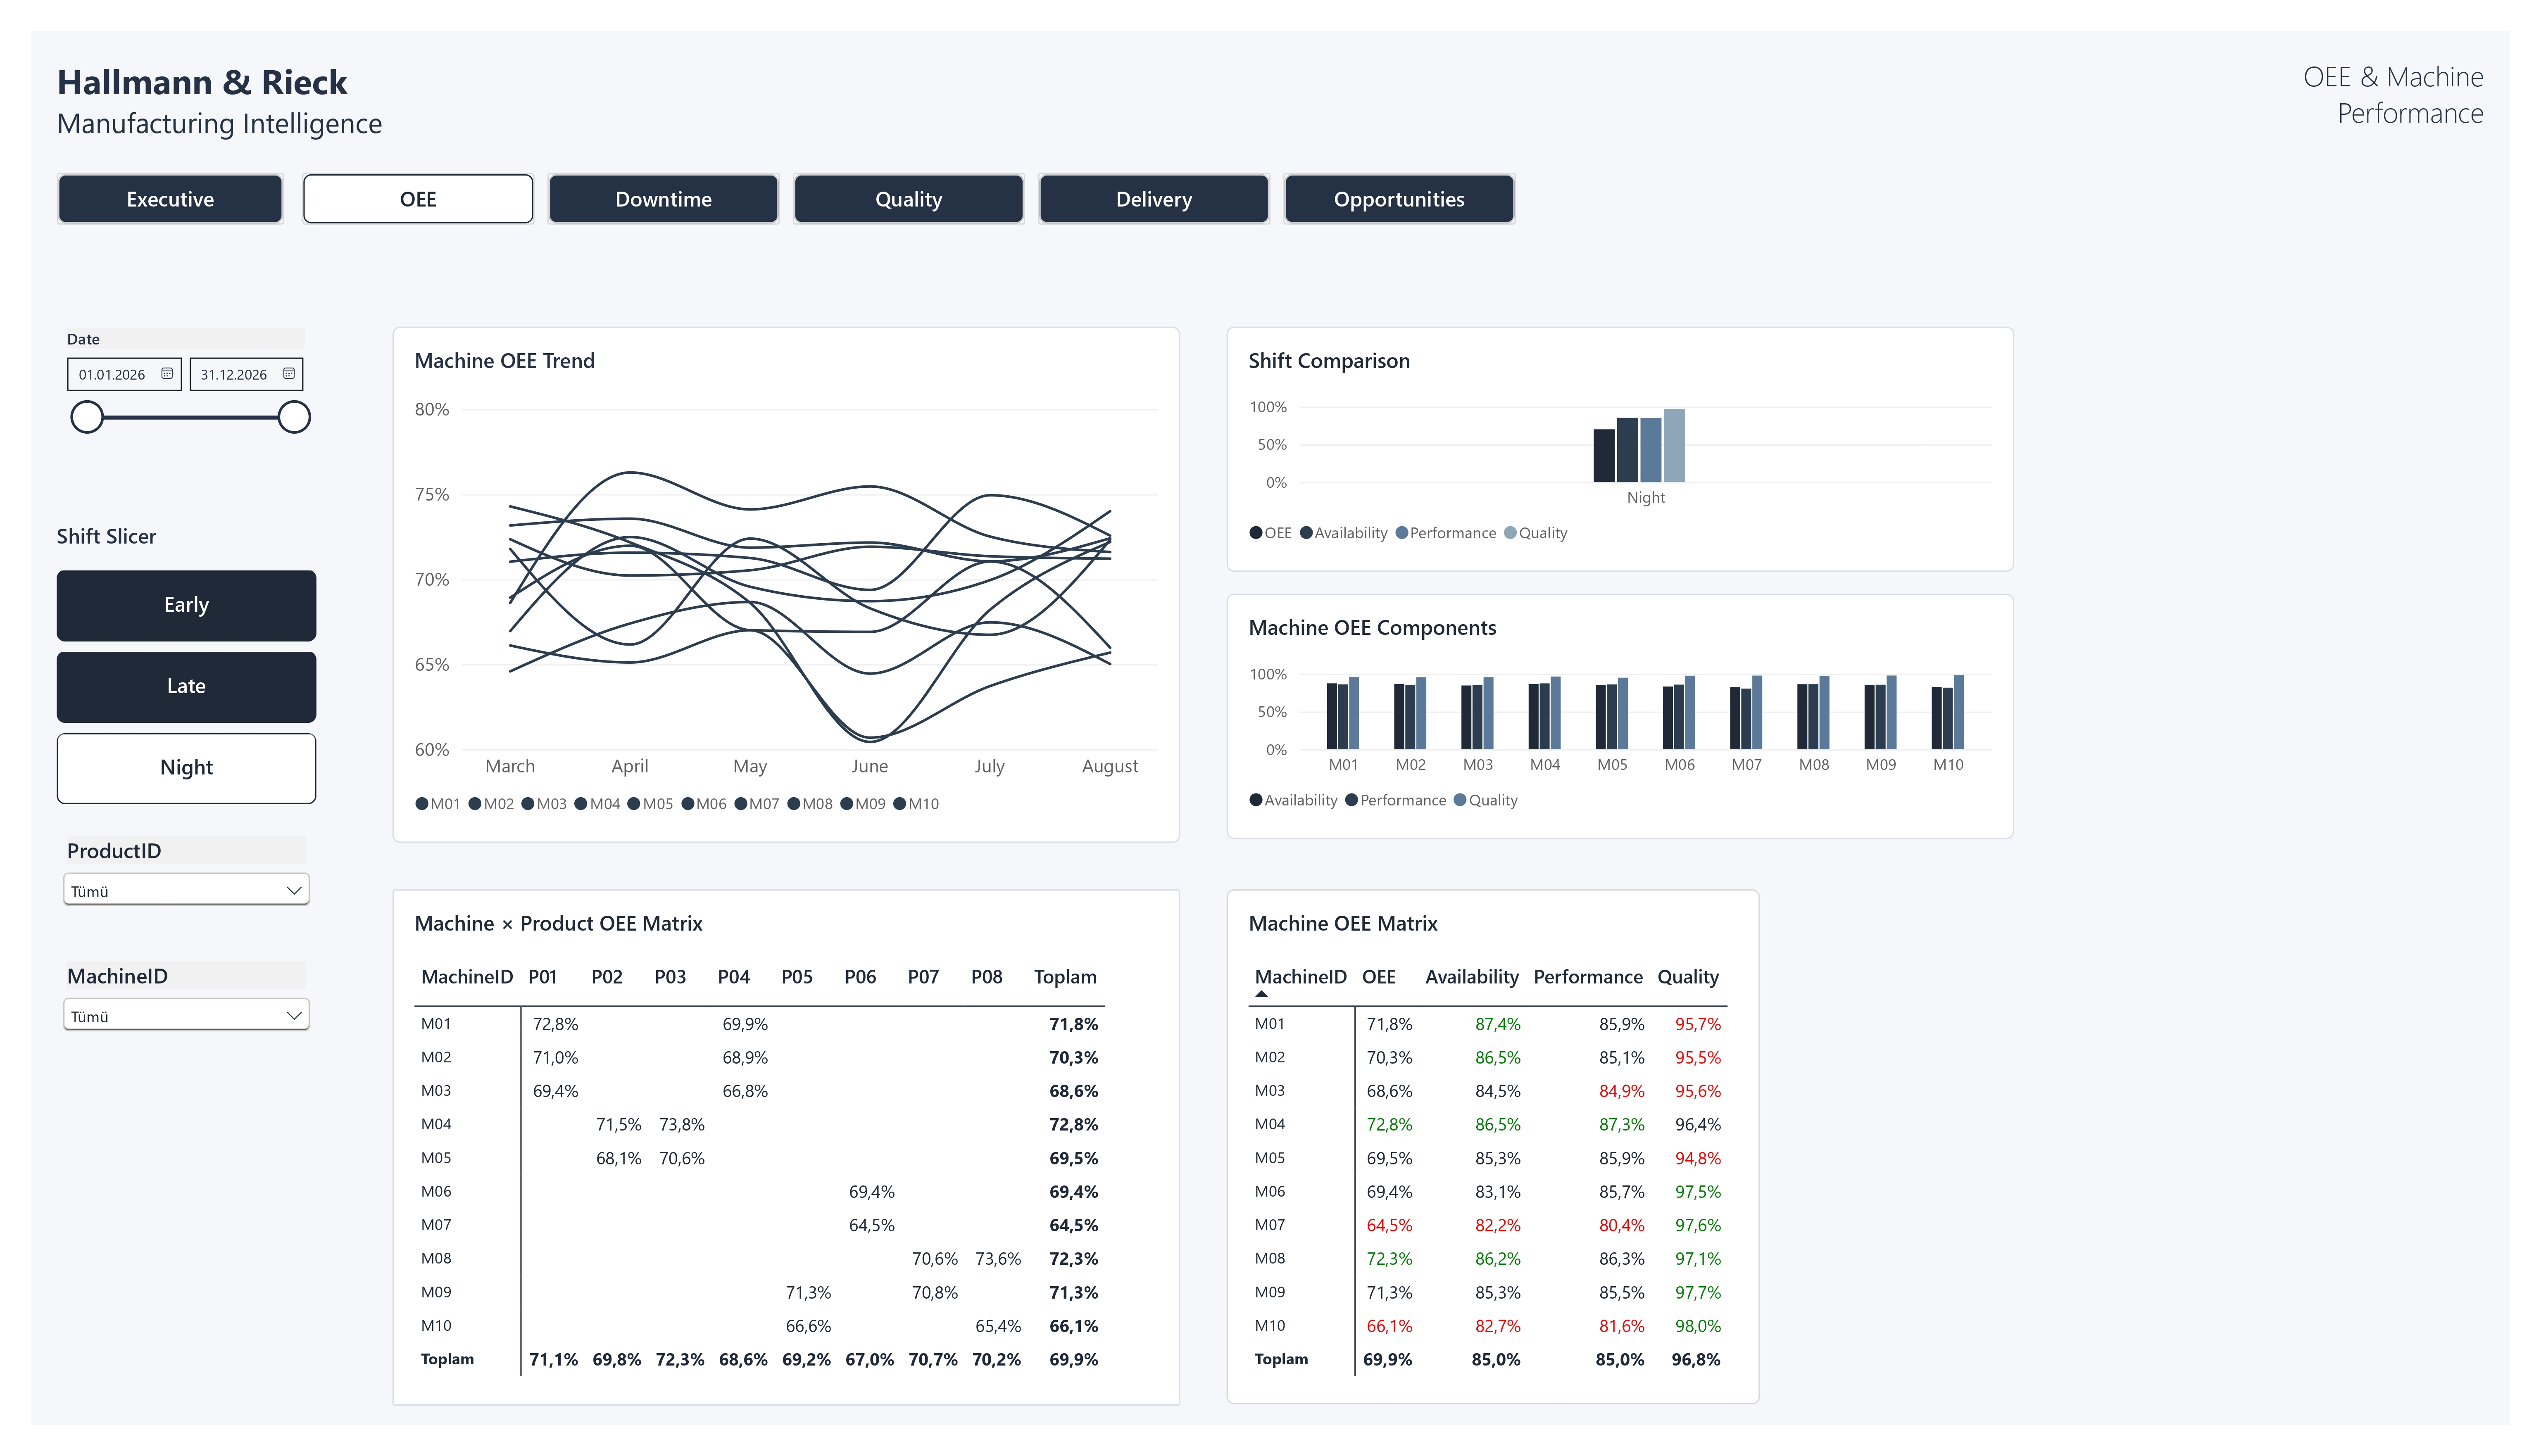

This screenshot's page, from the dashboard's own definition file:
{"tool":"powerbi","page":{"name":"02 OEE & Machine Performance","canvas":[1920,1080],"ordinal":1},"visuals":[{"type":"textbox","title":"Company Text","box":[20,20,362.5,80],"z":0,"group":"g1"},{"type":"actionButton","title":"Opportunities","box":[970.3,110.5,180,40],"z":0,"group":"g2"},{"type":"clusteredColumnChart","title":"Machine OEE Components","fields":{"Category":["Dim_Machine.MachineID"],"Y":["_Measures.Availability","_Measures.Performance","_Measures.Quality"]},"box":[926,435.6,610,190],"z":0},{"type":"textbox","title":"Page Text","box":[1644.9,20,255.1,80.5],"z":1000,"group":"g1"},{"type":"actionButton","title":"Delivery","box":[780,110,180,40],"z":1000,"group":"g2"},{"type":"pivotTable","title":"Machine × Product OEE Matrix","fields":{"Columns":["Dim_Product.ProductID"],"Rows":["Dim_Machine.MachineID"],"Values":["_Measures.OEE"]},"box":[279.6,664.6,610,400],"z":1000},{"type":"actionButton","title":"Quality","box":[590,110,180,40],"z":2000,"group":"g2"},{"type":"slicer","fields":{"Values":["Dim_Product.ProductID"]},"box":[20,624.1,200.6,79],"z":2000},{"type":"actionButton","title":"Downtime","box":[400,110,180,40],"z":3000,"group":"g2"},{"type":"lineChart","title":"Machine OEE Trend","fields":{"Category":["Dim_Date.MonthName"],"Series":["Dim_Machine.MachineID"],"Y":["_Measures.OEE"]},"box":[279.6,229,609.9,400],"z":3000},{"type":"actionButton","title":"OEE","box":[210,110,180,40],"z":4000,"group":"g2"},{"type":"slicer","fields":{"Values":["Dim_Machine.MachineID"]},"box":[20,721.4,200.6,89.2],"z":4000},{"type":"actionButton","title":"Executive","box":[20,110,176,40],"z":5000,"group":"g2"},{"type":"clusteredColumnChart","title":"Shift Comparison","fields":{"Category":["Dim_Shift.ShiftName"],"Y":["_Measures.OEE","_Measures.Availability","_Measures.Performance","_Measures.Quality"]},"box":[926,229,610,190],"z":5000},{"type":"pivotTable","title":"Machine OEE Matrix","fields":{"Rows":["Dim_Machine.MachineID"],"Values":["_Measures.OEE","_Measures.Availability","_Measures.Performance","_Measures.Quality"]},"box":[926,664.6,413.4,399.2],"z":6000},{"type":"group","id":"g1","title":"Header","box":[20,20,1880,80.5],"z":7000},{"type":"group","id":"g2","title":"Navigation Buttons","box":[20,110,1130.3,40.5],"z":8000},{"type":"slicer","title":"Date Slicer","fields":{"Values":["Dim_Date.Date"]},"box":[20,230,200,110],"z":9000},{"type":"advancedSlicerVisual","title":"Shift Slicer","fields":{"Values":["Dim_Shift.ShiftName"]},"box":[20,380,200.6,220.9],"z":10000}]}

Visuals, with their boxes on the page's 1920x1080 design canvas (x1, y1, x2, y2). These are canvas units, not pixel positions in the 2541x1456 screenshot, which may show the page scaled, cropped or inside an application window:
"Company Text" textbox: bbox=[20, 20, 382, 100]
"Opportunities" actionButton: bbox=[970, 110, 1150, 150]
"Machine OEE Components" clusteredColumnChart: bbox=[926, 436, 1536, 626]
"Page Text" textbox: bbox=[1645, 20, 1900, 100]
"Delivery" actionButton: bbox=[780, 110, 960, 150]
"Machine × Product OEE Matrix" pivotTable: bbox=[280, 665, 890, 1065]
"Quality" actionButton: bbox=[590, 110, 770, 150]
slicer - Dim_Product.ProductID: bbox=[20, 624, 221, 703]
"Downtime" actionButton: bbox=[400, 110, 580, 150]
"Machine OEE Trend" lineChart: bbox=[280, 229, 890, 629]
"OEE" actionButton: bbox=[210, 110, 390, 150]
slicer - Dim_Machine.MachineID: bbox=[20, 721, 221, 811]
"Executive" actionButton: bbox=[20, 110, 196, 150]
"Shift Comparison" clusteredColumnChart: bbox=[926, 229, 1536, 419]
"Machine OEE Matrix" pivotTable: bbox=[926, 665, 1339, 1064]
"Header" group: bbox=[20, 20, 1900, 100]
"Navigation Buttons" group: bbox=[20, 110, 1150, 150]
"Date Slicer" slicer: bbox=[20, 230, 220, 340]
"Shift Slicer" advancedSlicerVisual: bbox=[20, 380, 221, 601]
